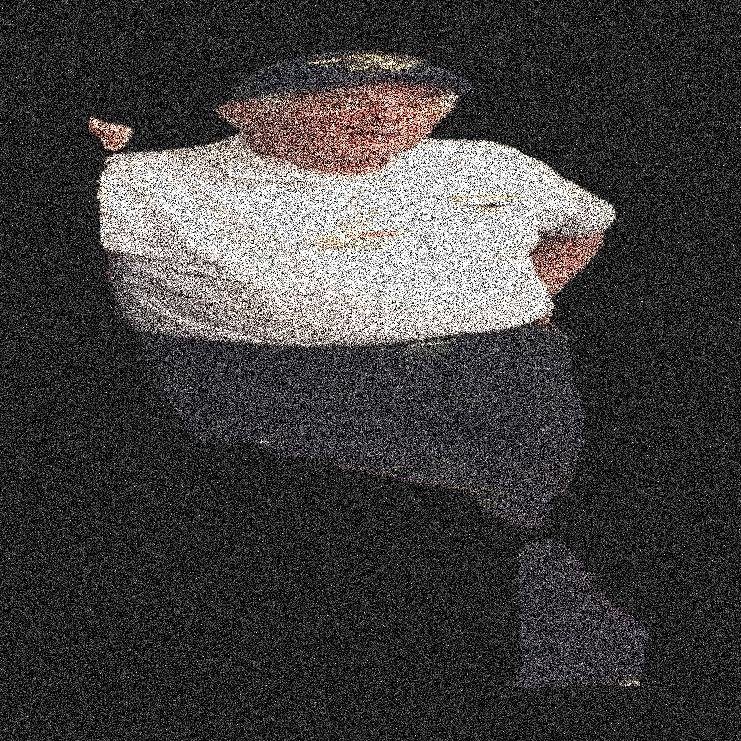Pessoa: (490, 0, 550, 740)
